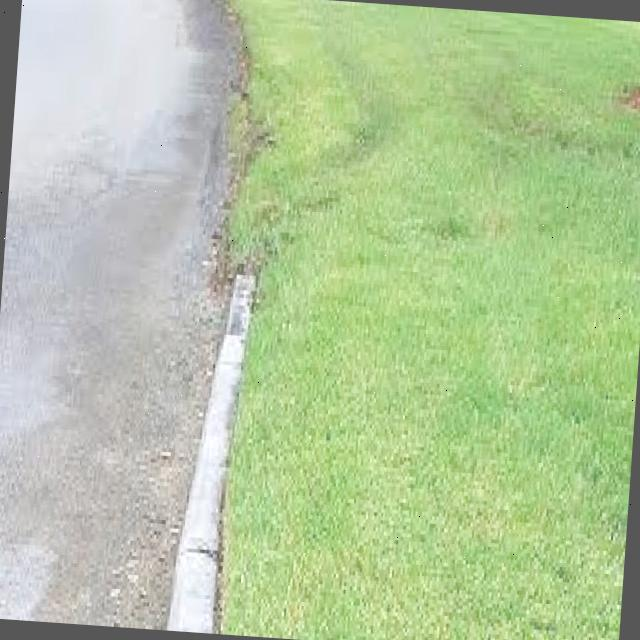curb: (171, 279, 254, 634)
